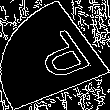P_SE: (17, 24, 93, 86)
